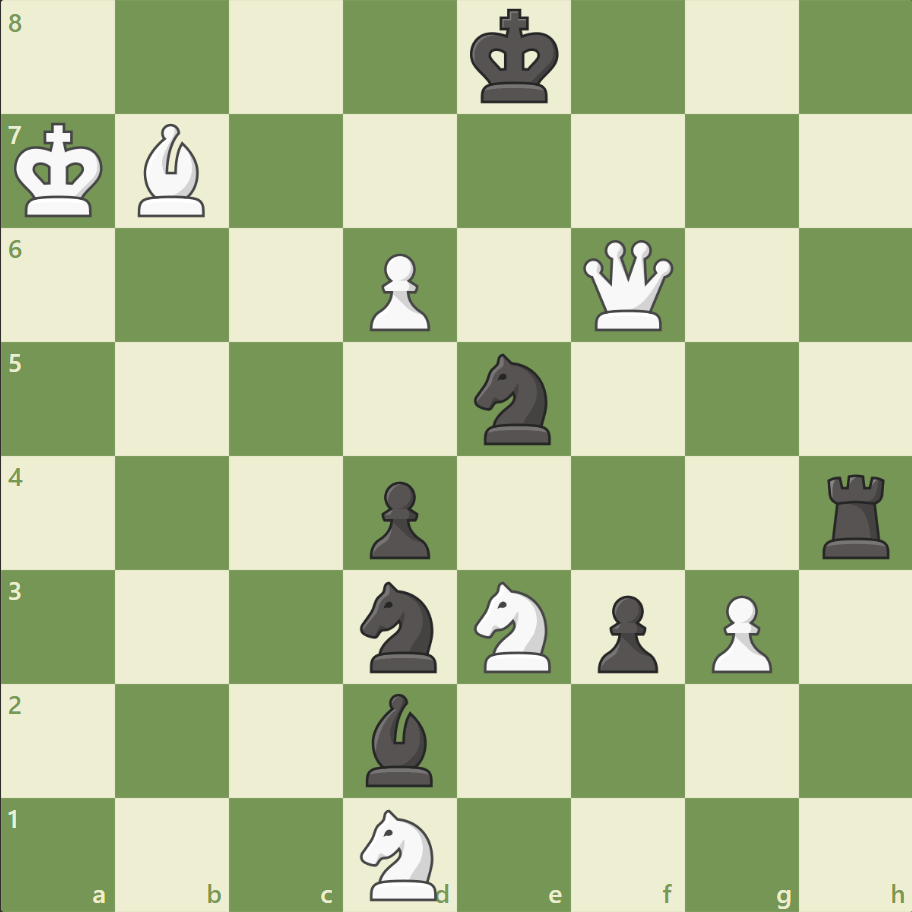B: (131, 120, 215, 222)
K: (11, 117, 111, 225)
N: (351, 802, 449, 904), (465, 575, 562, 677)
P: (701, 586, 776, 677), (361, 246, 435, 337)
Q: (578, 236, 677, 335)
b: (358, 687, 442, 790)
k: (465, 4, 565, 112)
n: (351, 575, 449, 677), (465, 348, 562, 450)
p: (361, 473, 435, 564), (588, 586, 662, 677)
r: (814, 466, 897, 563)
